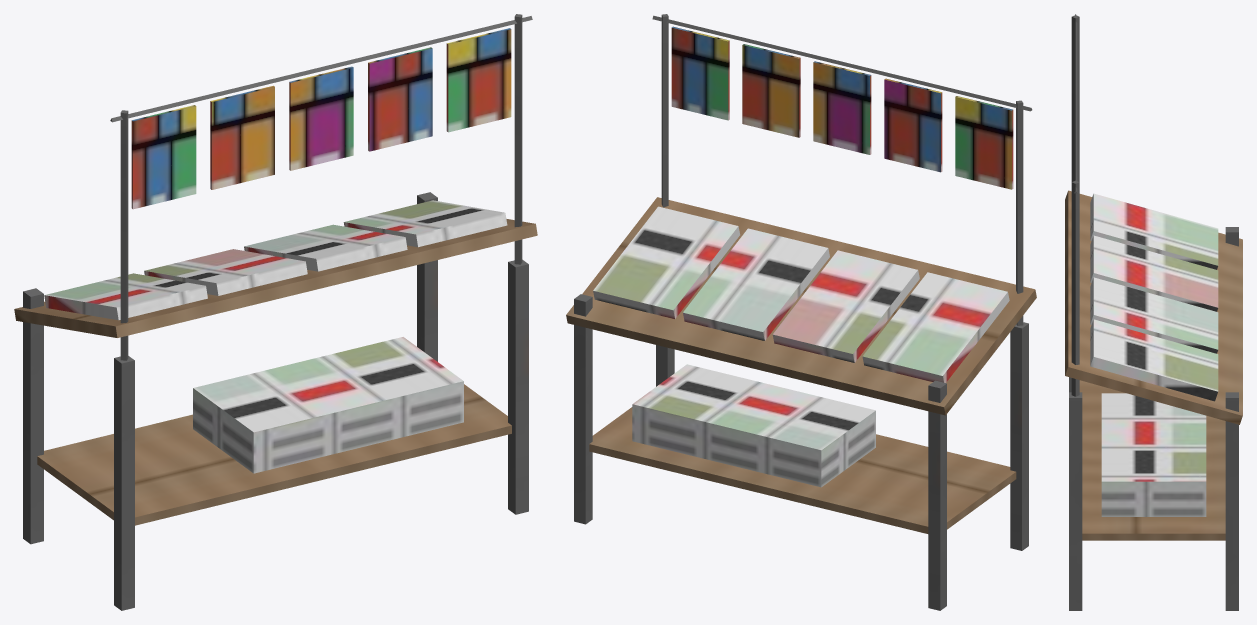
File: newspaper-stand.glb
3 views of the same model, side by side, from view 1: azimuth 30°, elevation 25°; view 2: azimuth 150°, elevation 25°; view 3: azimuth 270°, elevation 25° (orthographic). The views are drawn at different scales.
Parts seen in each view (by area): view 1: newsstand; view 2: newsstand; view 3: newsstand.
Boxes of the visible parts, bbox=[...] form: newsstand: bbox=[14, 14, 537, 610]; newsstand: bbox=[566, 14, 1036, 610]; newsstand: bbox=[1065, 14, 1242, 610].
Bounding box in the file's own units: 1.6 × 1.8 × 0.6806.
Materials: 1 (1 with a texture image).
